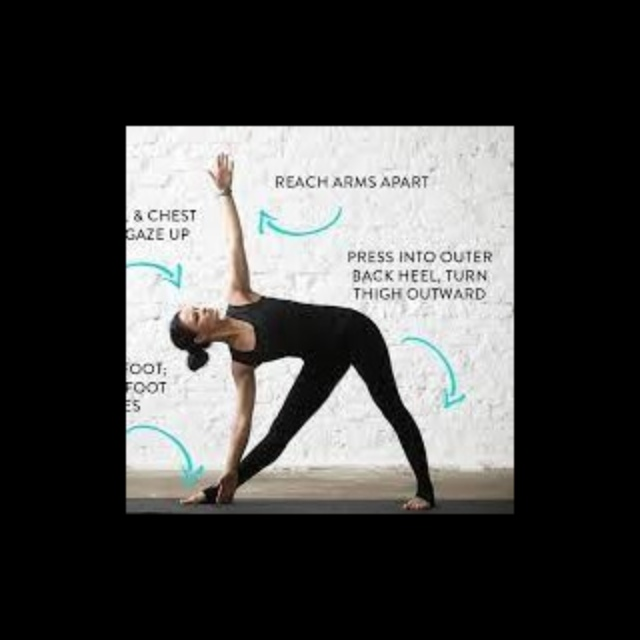Triangle_Pose: (162, 148, 441, 512)
